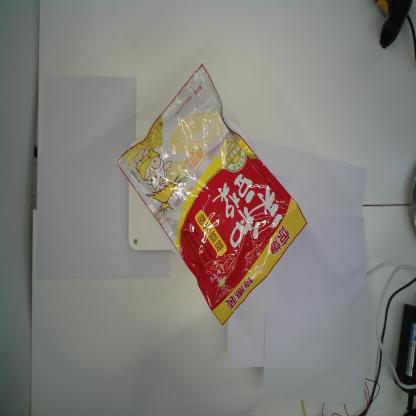Instant Drink: (115, 62, 308, 326)
